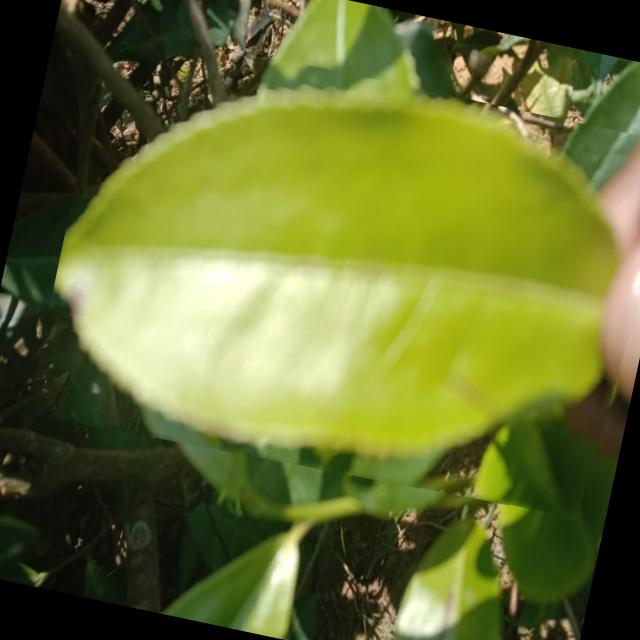Category B(2-4 days): (26, 22, 640, 535)
